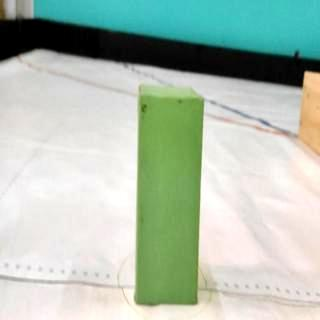greenbox: (135, 79, 207, 308)
